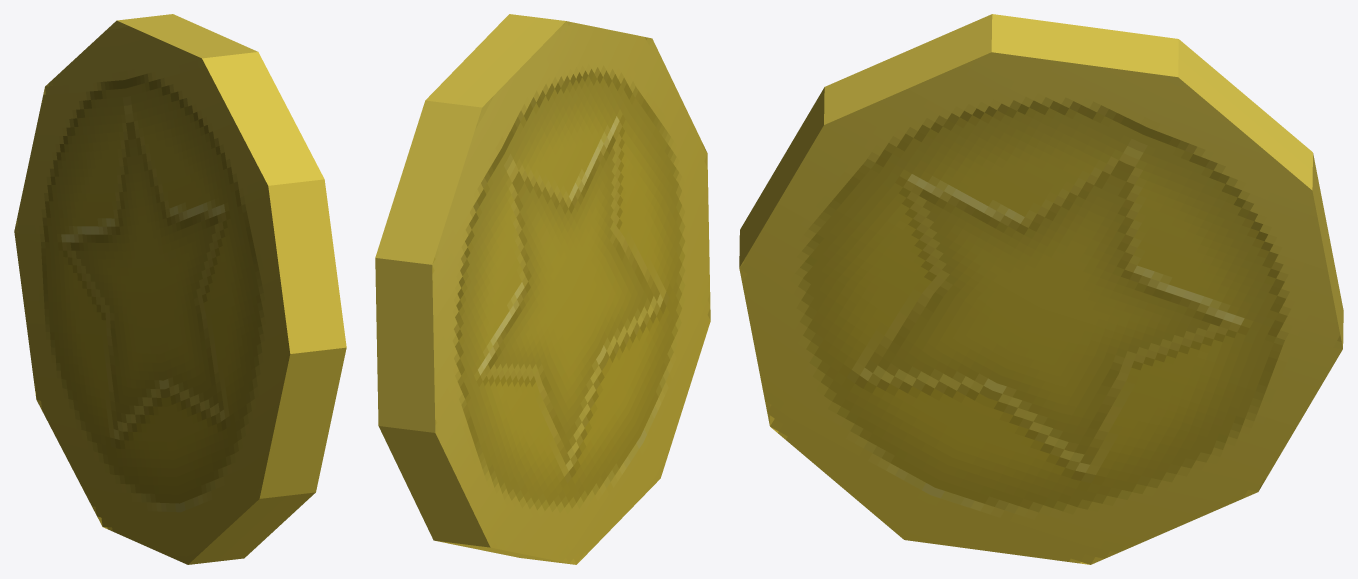
The model's file is coin_1.001_lev2.glb.
The picture shows the model from 3 angles, left to right: view 1: azimuth 30°, elevation 25°; view 2: azimuth 150°, elevation 25°; view 3: azimuth 270°, elevation 25°; orthographic projection. The views are drawn at different scales.
Parts seen in each view (by area): view 1: coin_1.001_lev2; view 2: coin_1.001_lev2; view 3: coin_1.001_lev2.
Part boxes in pixels (x1,y1,x2,y2): coin_1.001_lev2: [14, 14, 346, 564]; coin_1.001_lev2: [375, 14, 710, 564]; coin_1.001_lev2: [739, 14, 1343, 564].
Bounding box in the file's own units: 0.6316 × 2.69 × 2.68.
Materials: 1 (1 with a texture image).
